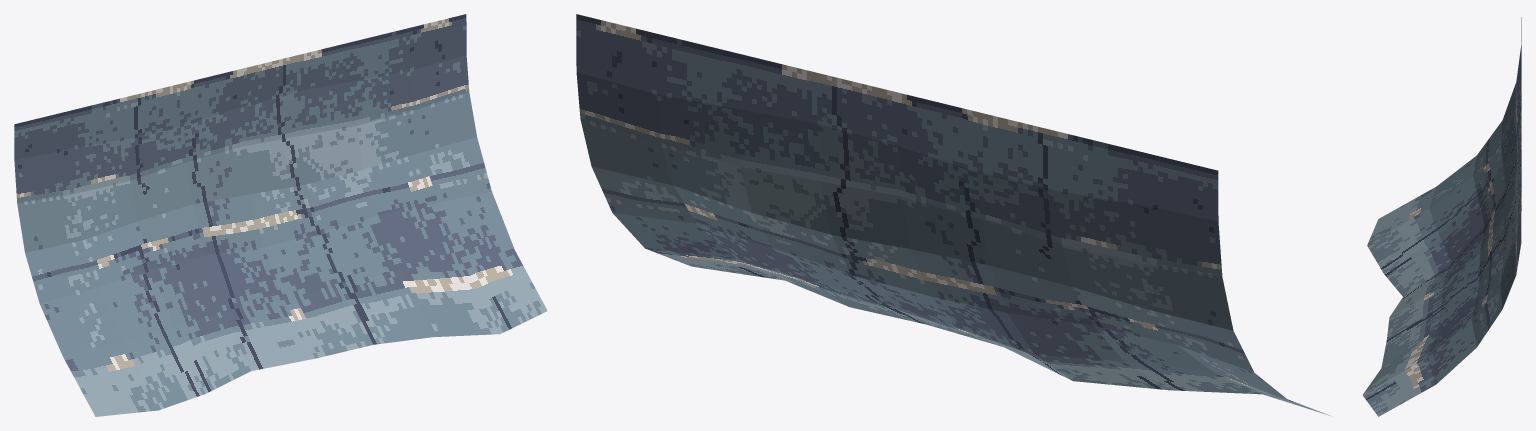
File: TER-07_Escarpe_recto_c.gltf
3 renders of one model, left to right at view 1: azimuth 30°, elevation 25°; view 2: azimuth 150°, elevation 25°; view 3: azimuth 270°, elevation 25°, orthographic. The views are drawn at different scales.
Visible parts, largest first — view 1: TER-07_Escarpe_recto_c-col; view 2: TER-07_Escarpe_recto_c-col; view 3: TER-07_Escarpe_recto_c-col.
Boxes of the visible parts, x1,y1,x2,y2 form: TER-07_Escarpe_recto_c-col: [14, 14, 547, 416]; TER-07_Escarpe_recto_c-col: [576, 14, 1331, 416]; TER-07_Escarpe_recto_c-col: [1362, 17, 1521, 416].
Bounding box in the file's own units: 4 × 2.03 × 1.39.
1 material, 1 textured.
